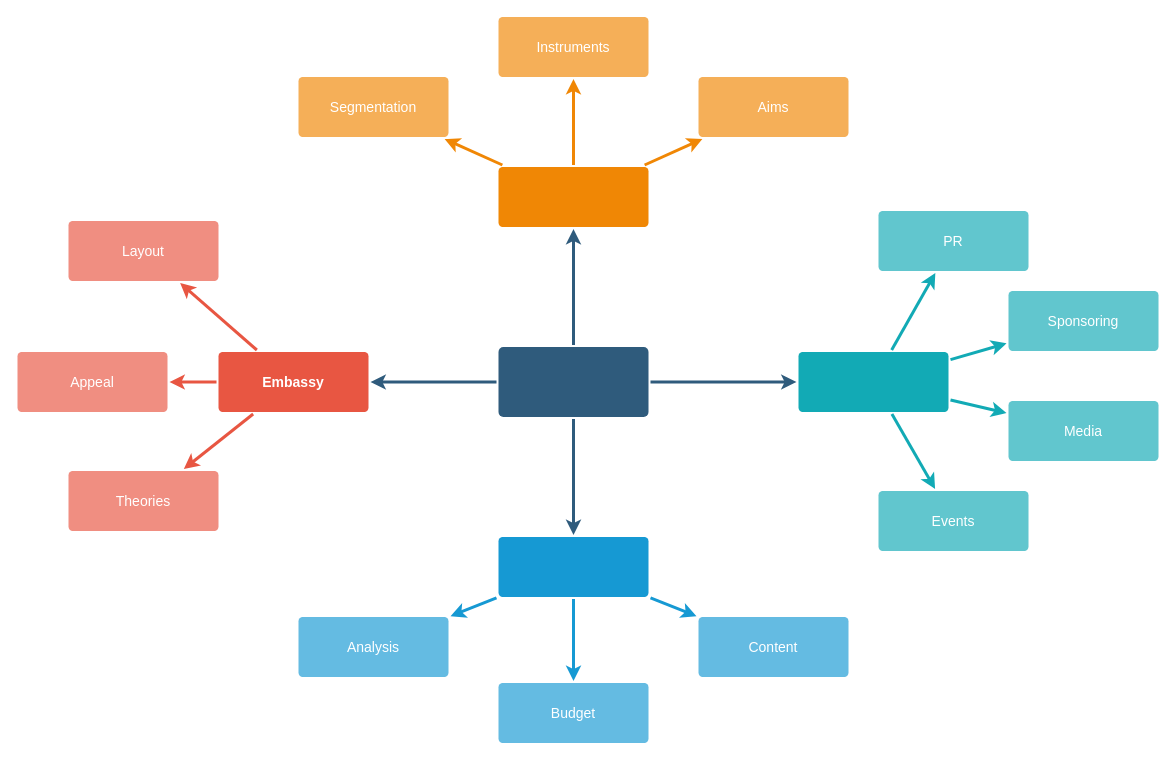
The diagram is 1175 pixels wide and 760 high, and some of its shapes have lost their labels. Here are the shapes that lost their labels. From the top down, the box of each, then its label:
(498, 166, 648, 226): Marketing
(498, 346, 648, 416): Cloud Computing
(798, 352, 948, 412): Communication
(498, 536, 648, 596): Organization
